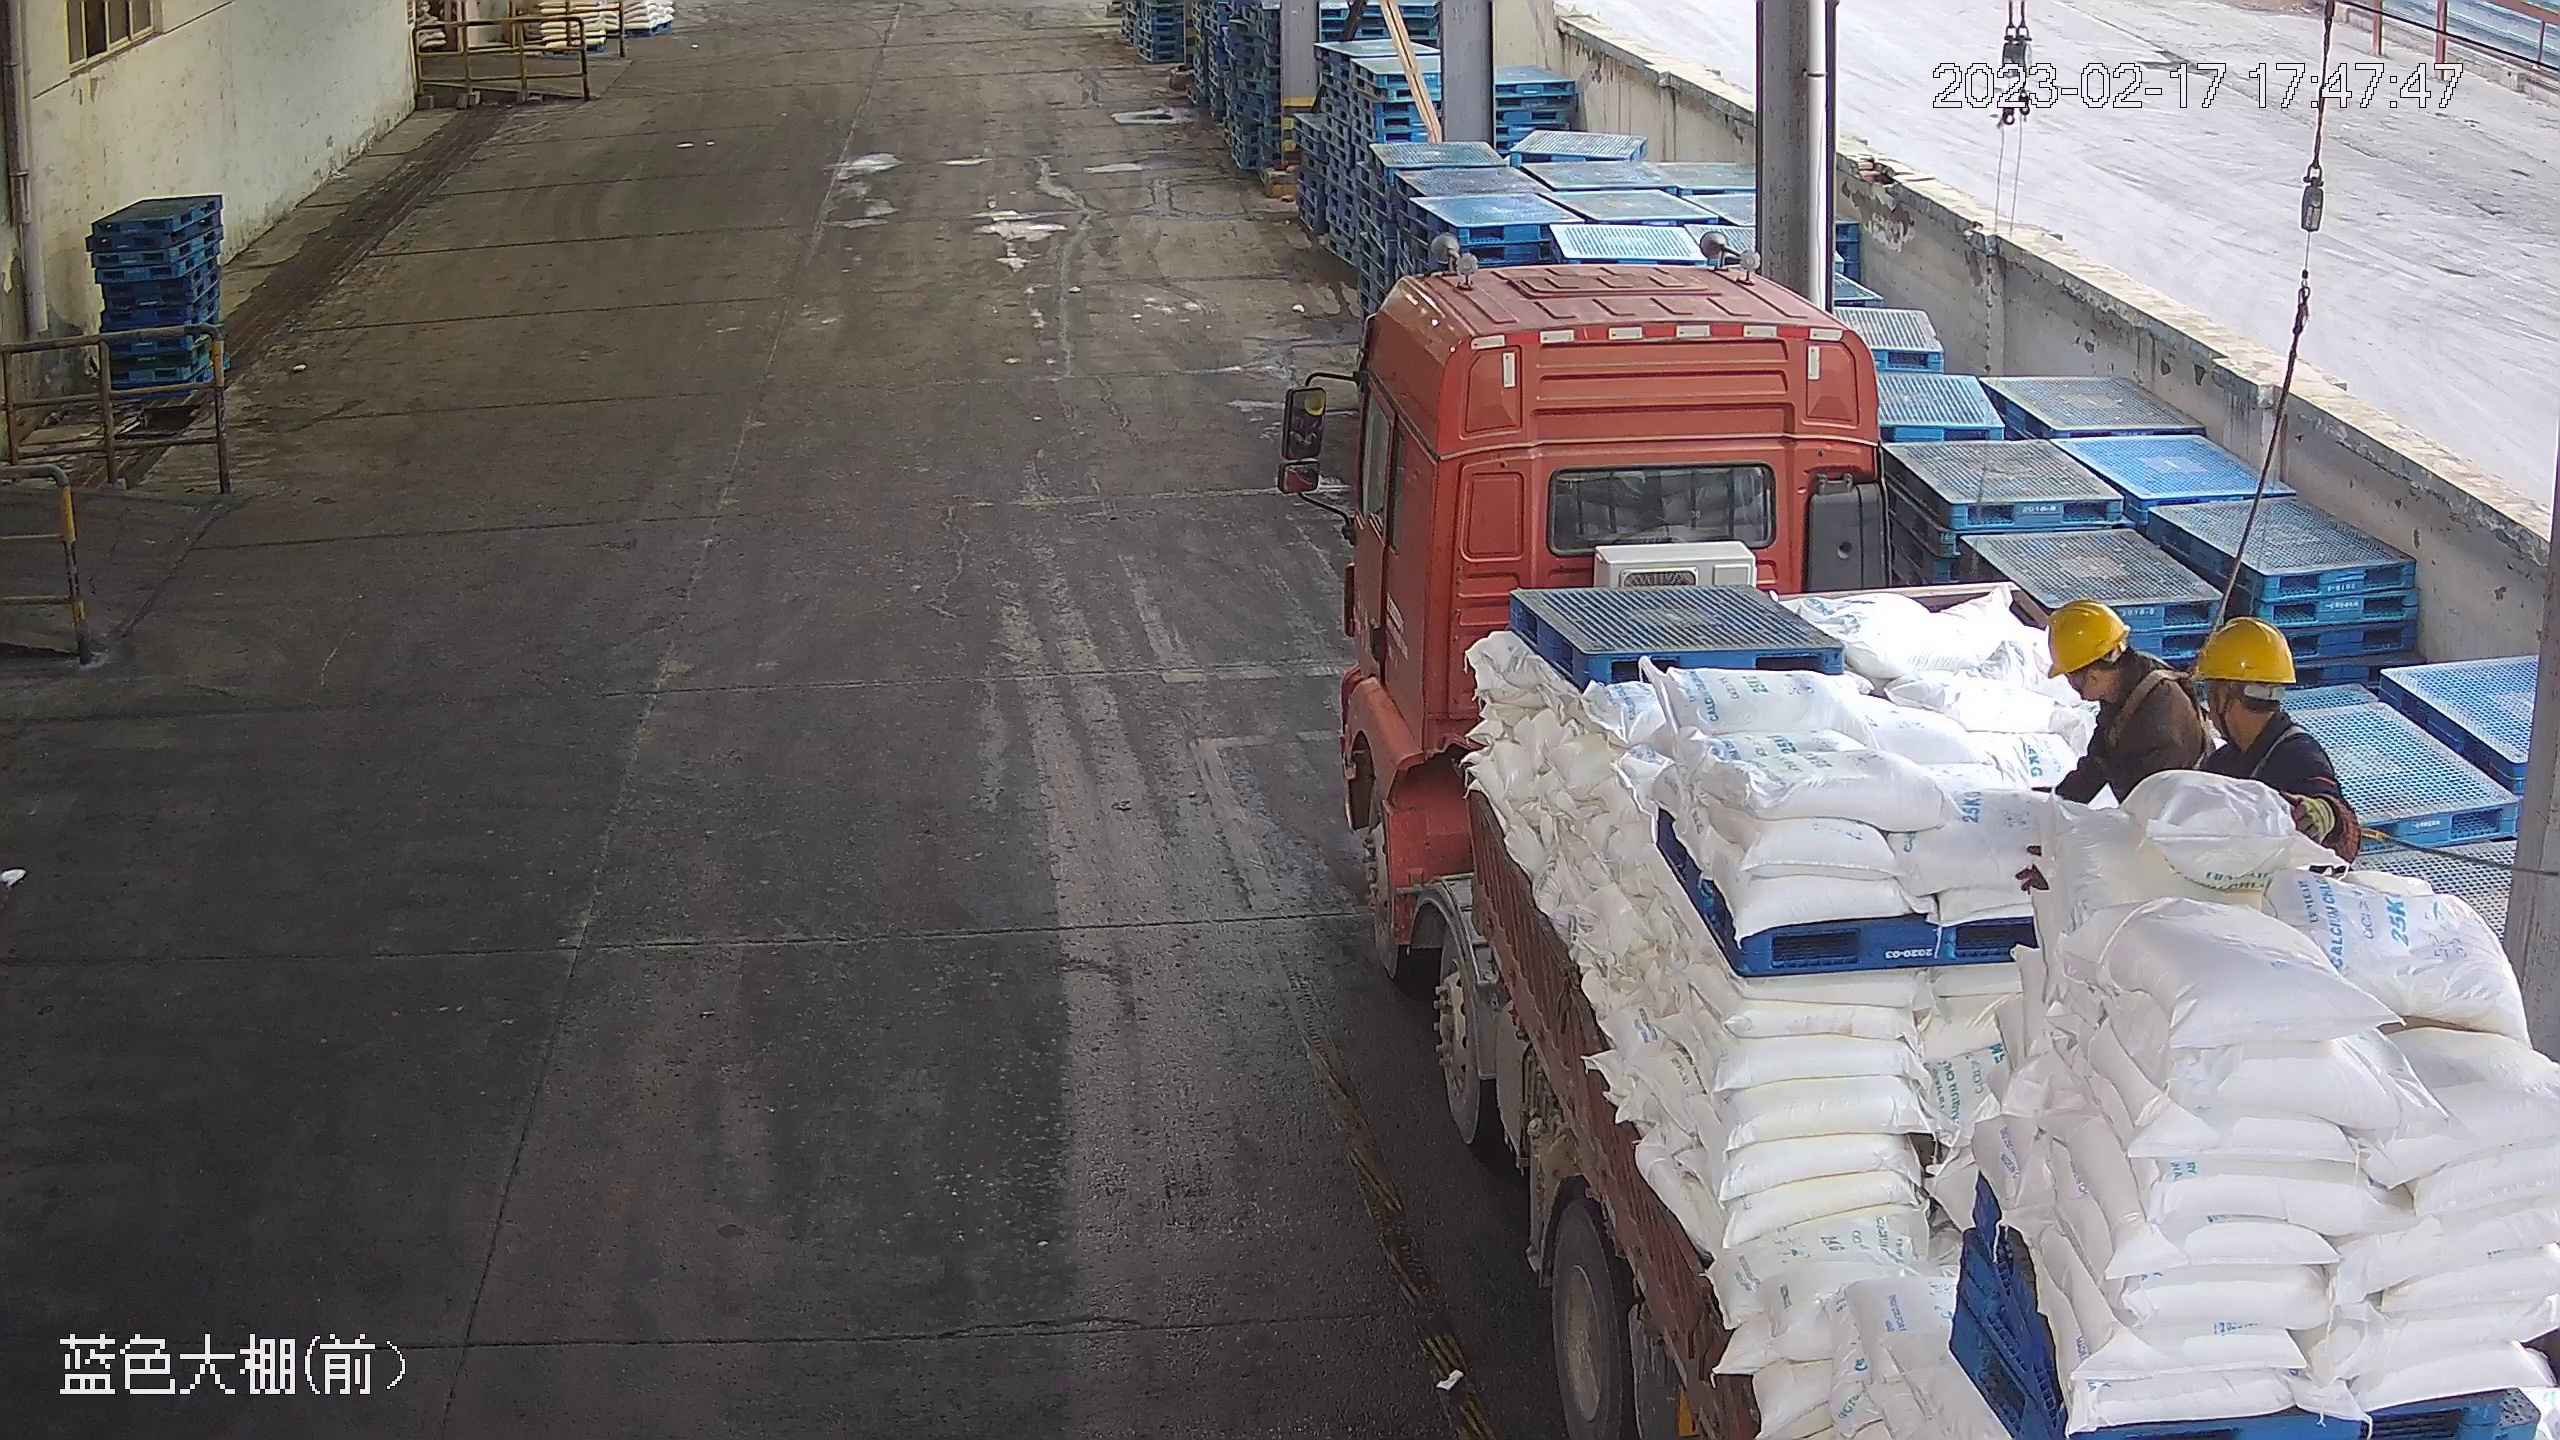belt: (2101, 662, 2214, 753)
head: (2181, 615, 2331, 776), (2045, 598, 2197, 747)
helmet: (2191, 612, 2299, 686), (2043, 596, 2131, 676)
truck: (1271, 253, 2560, 1440)
